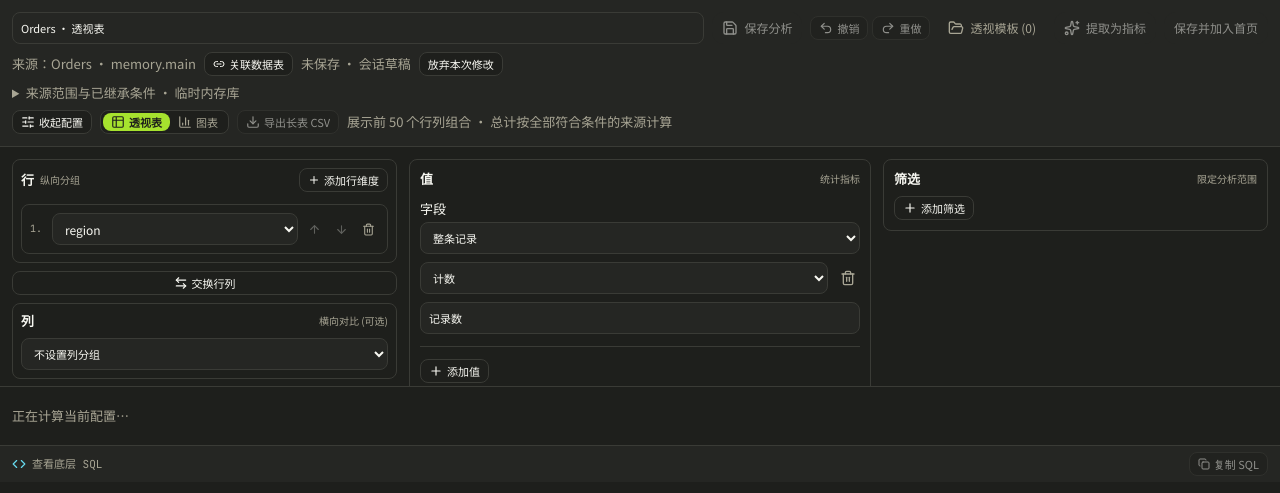
it: pivot configuration history › lets the user empty 行 and 值 and keeps a usable configuration
What coordinates should you click on to do the following:
click the button named "移除行维度 1"
I would click on:
 (368, 229)
Its box is [358,218,379,240].
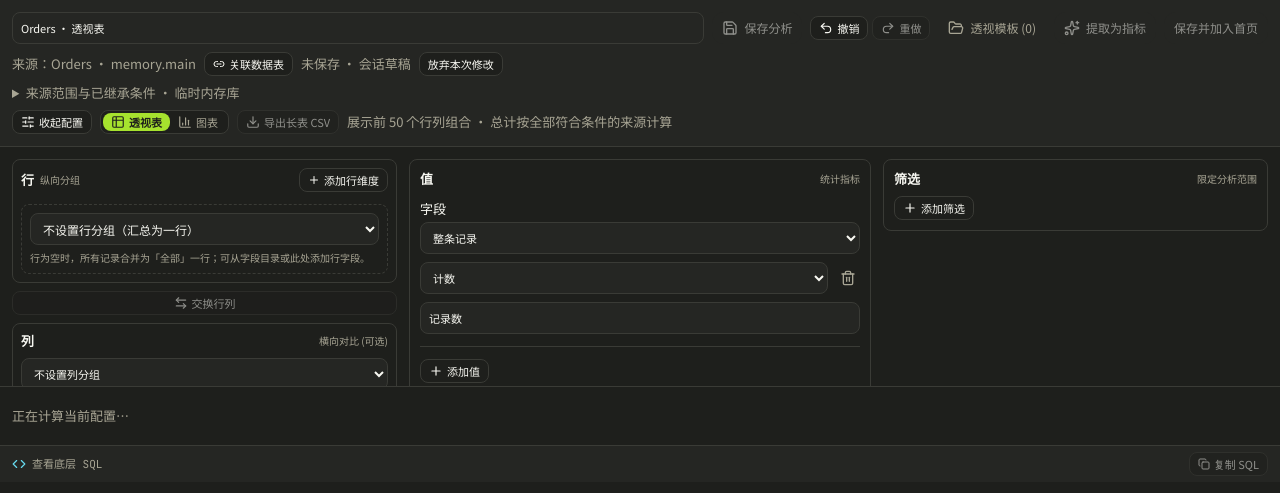
Expected: the dropdown labelled "行" shows "不设置行分组（汇总为一行）", [30,213,379,245]
Expected: the text "行为空时，所有记录合并为「全部」一行；可从字段目录或此处添加行字段。" is shown, [30,251,379,265]
What coordinates should you click on to do the following:
click the button named "移除值 1"
I would click on:
 (848, 278)
Its box is [836,266,860,290].
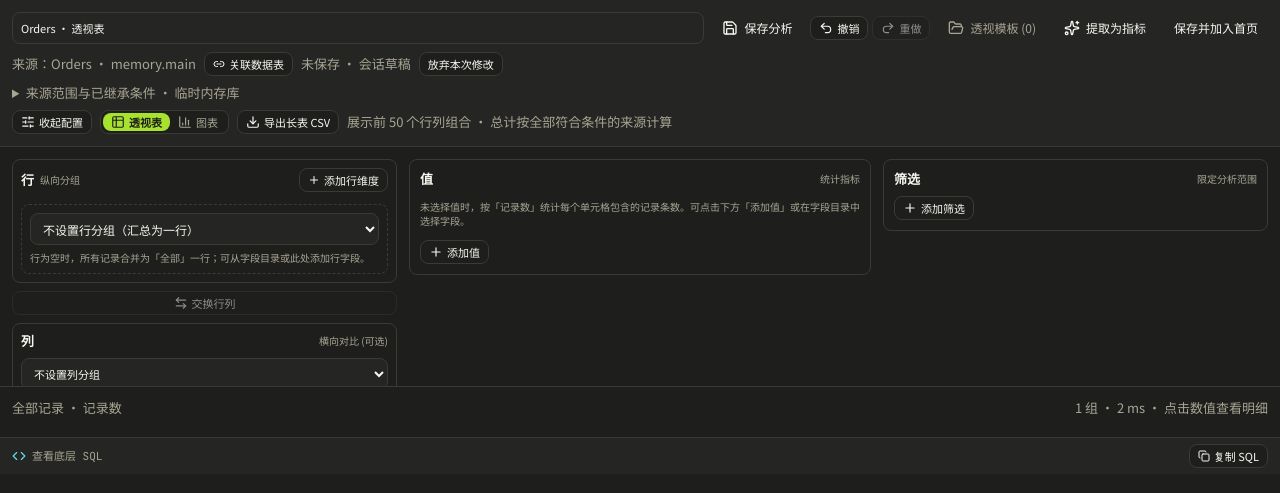
Expected: the text "未选择值时，按「记录数」统计每个单元格包含的记录条数。可点击下方「添加值」或在字段目录中选择字段。" is shown, [420,200,860,228]
What coordinates should you click on to do the following:
click the button with aria-label "撤销配置修改"
I would click on:
 (840, 28)
Its box is [810,16,868,40].
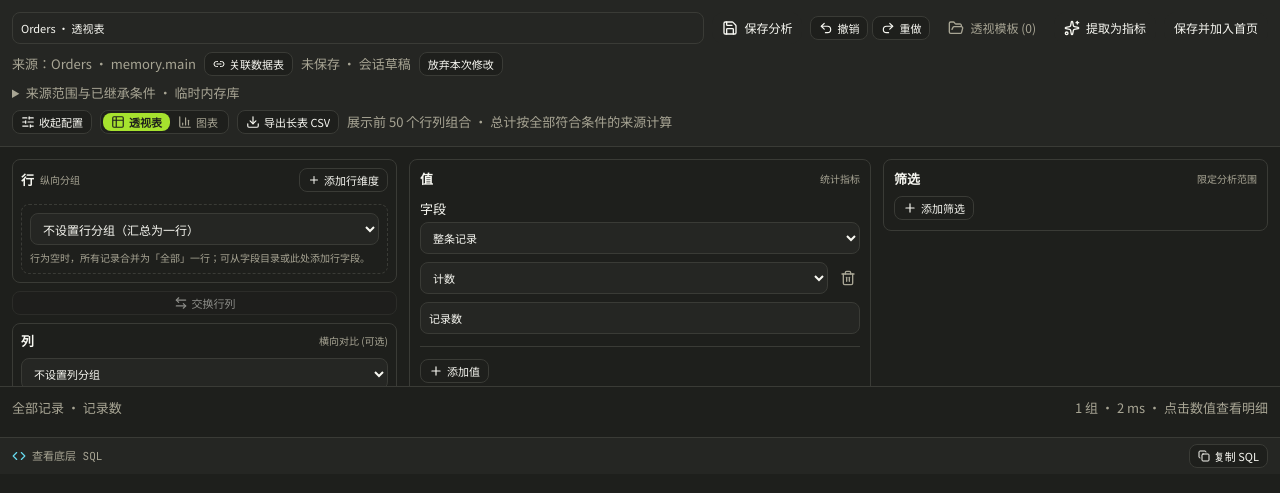
Expected: the text "未选择值时" is gone
